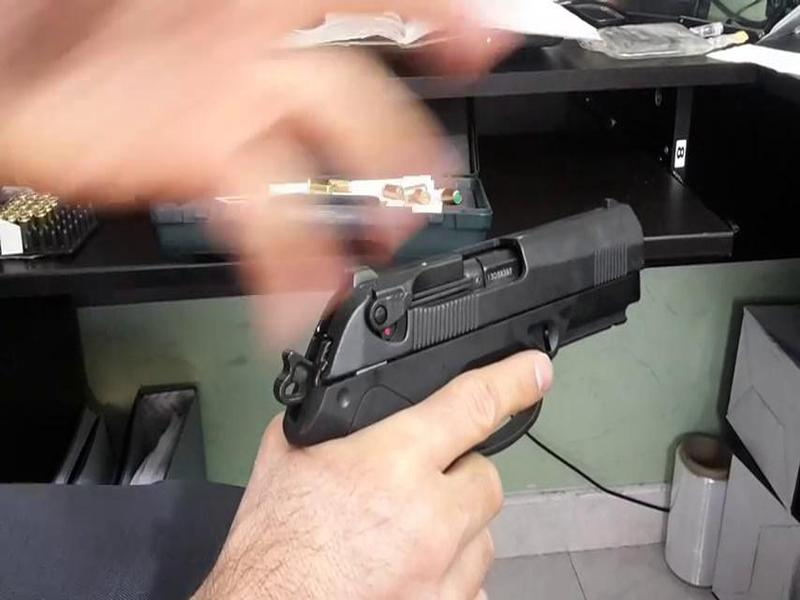Pistola: (262, 163, 653, 467)
